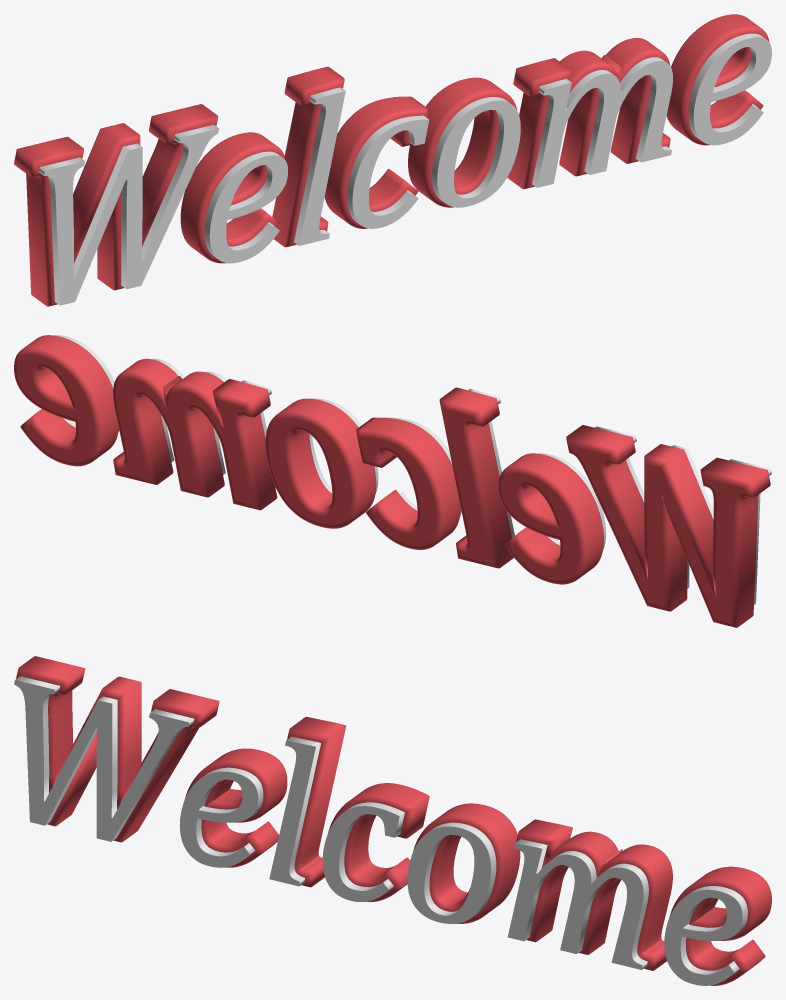
The model's file is Welcome.glb.
3 renders of one model, top to bottom at view 1: azimuth 30°, elevation 25°; view 2: azimuth 150°, elevation 25°; view 3: azimuth 330°, elevation 25°, orthographic.
Parts seen in each view (by area): view 1: Object_13, Object_11; view 2: Object_13, Object_12, Object_11; view 3: Object_13, Object_11.
Part boxes in pixels (left/top/right/bottom): Object_13: left=14, top=14, right=769, bottom=306; Object_11: left=39, top=33, right=771, bottom=305; Object_13: left=14, top=335, right=770, bottom=627; Object_12: left=17, top=354, right=745, bottom=622; Object_11: left=54, top=335, right=771, bottom=604; Object_13: left=16, top=656, right=771, bottom=985; Object_11: left=14, top=676, right=747, bottom=985.
Size of the model in its own units: 2.84 by 0.5728 by 0.1745.
